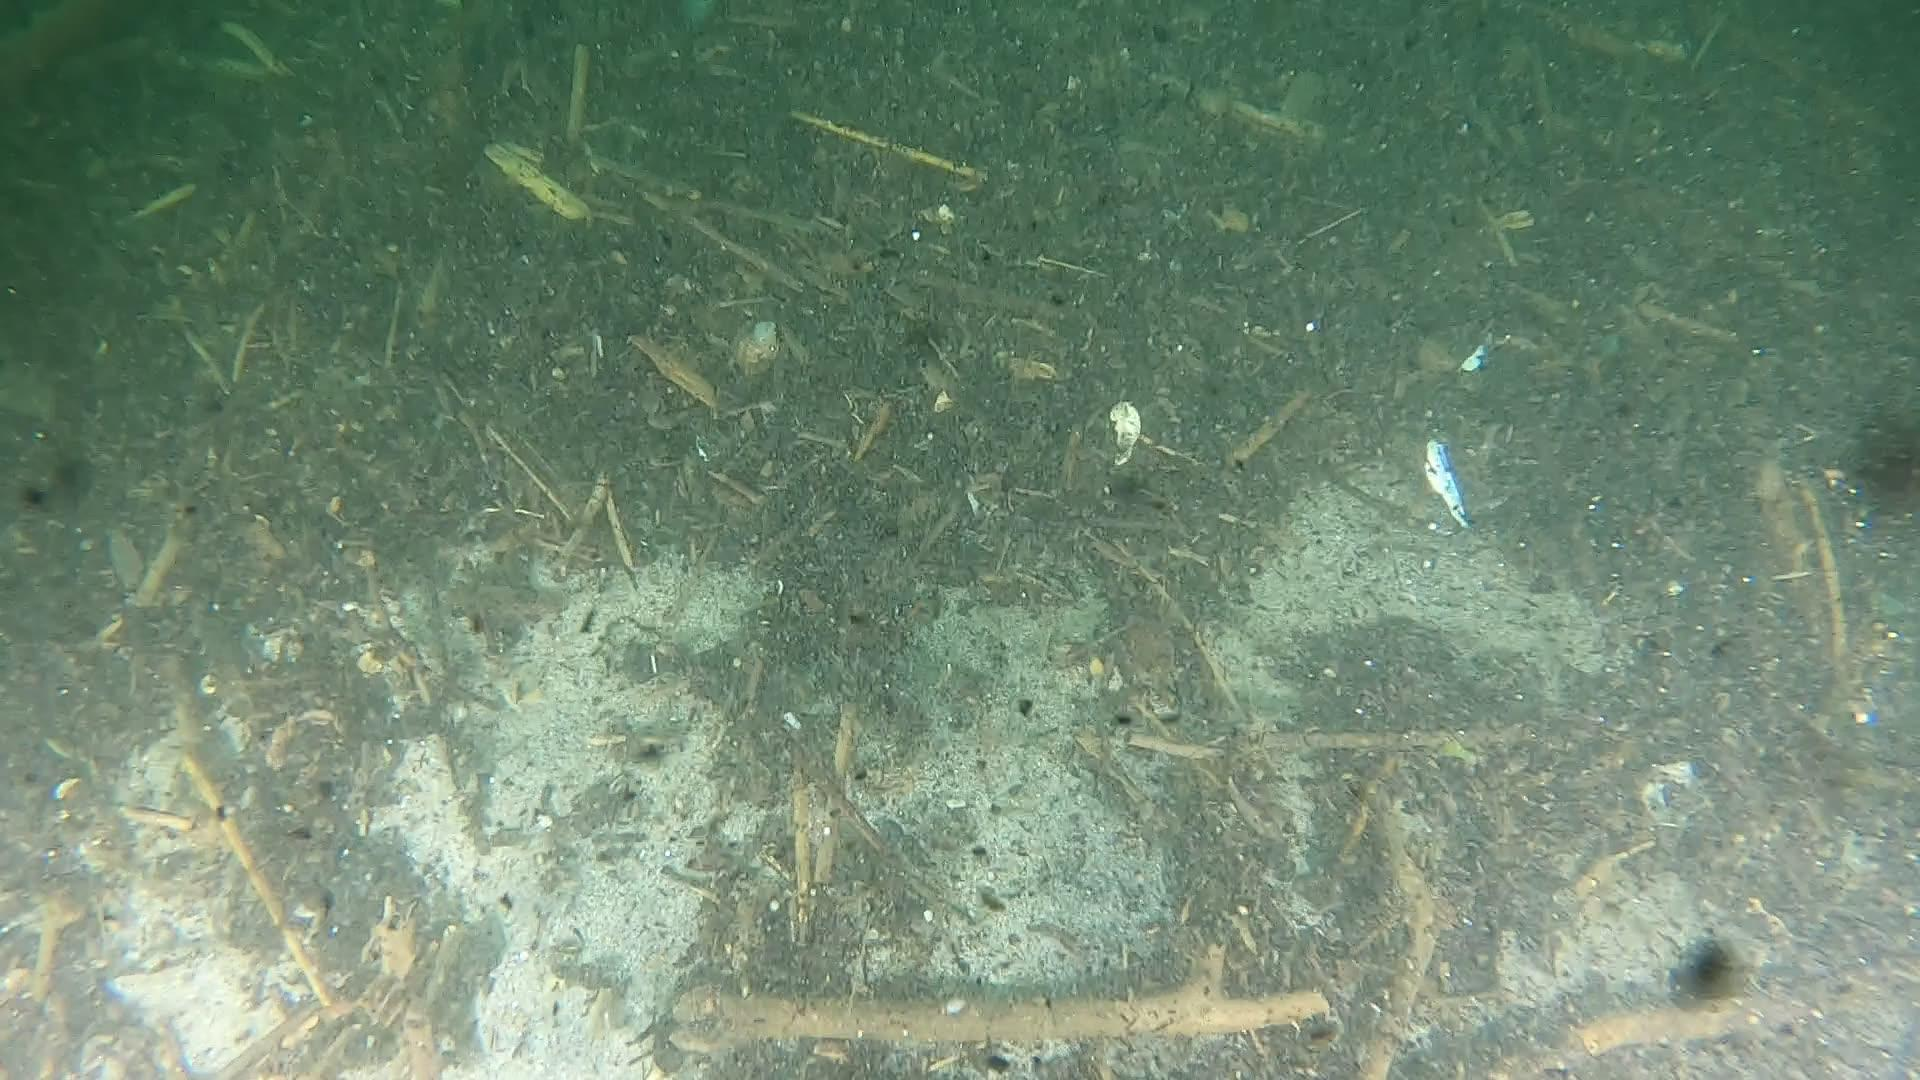wood: (705, 934, 1329, 1048), (1474, 975, 1879, 1080), (1364, 787, 1453, 1080)
